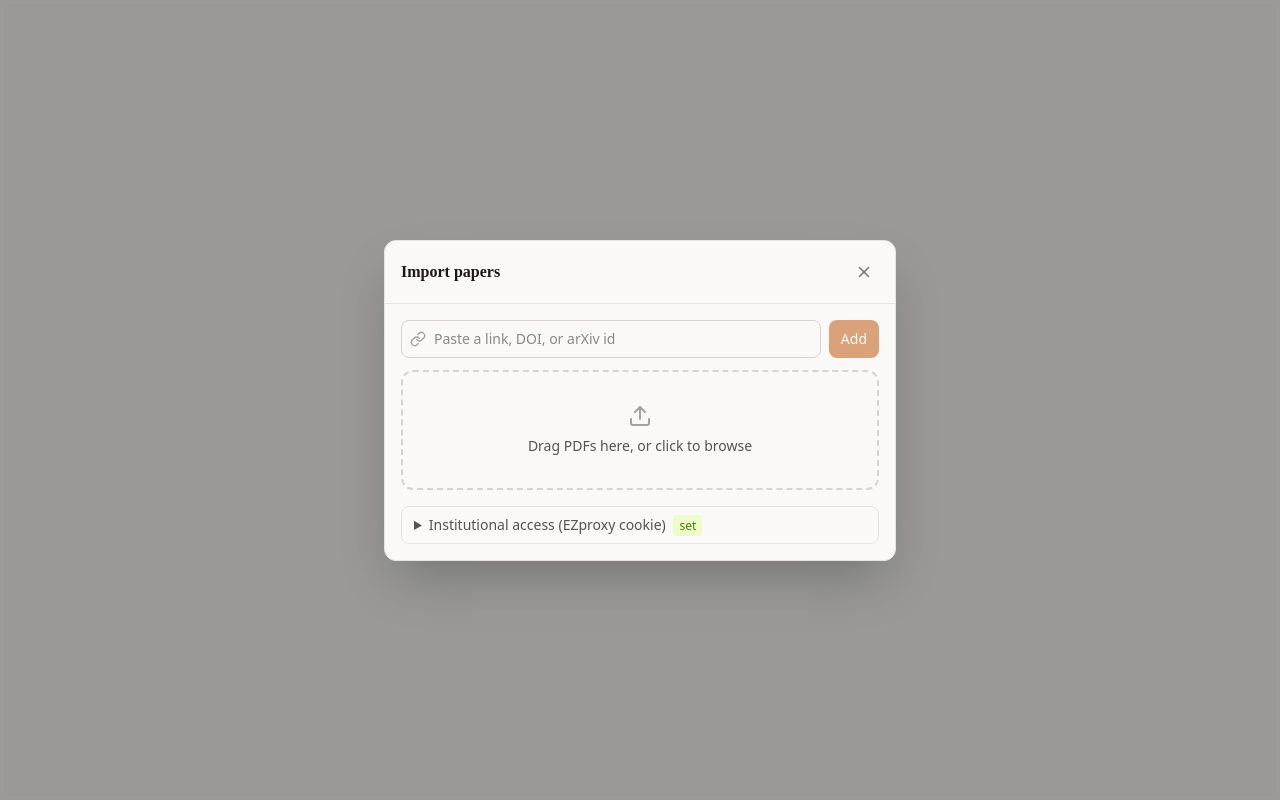
proxy cookie section › Clear removes the cookie and surfaces the refreshed state
Click the heading "Institutional access (EZproxy cookie) set". click: (566, 525)
box: [429,514,702,536]
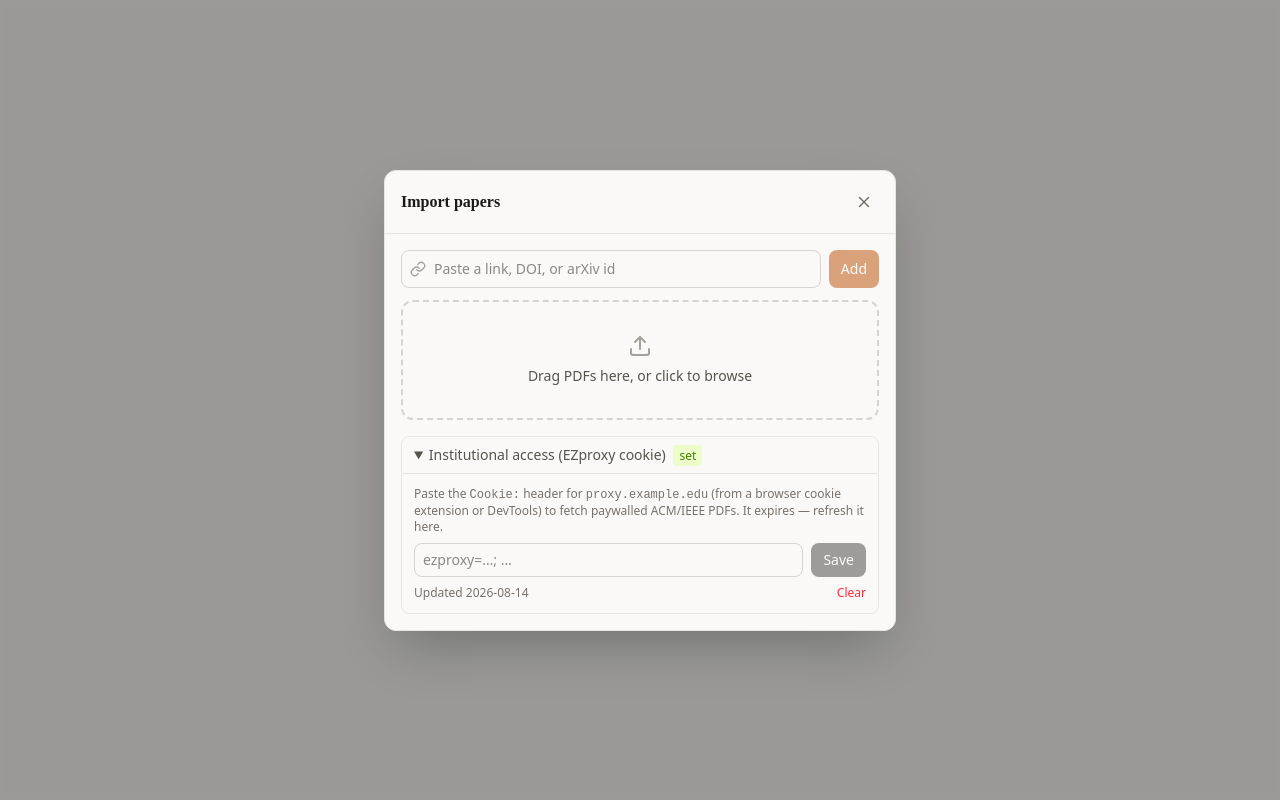
Click the button "Clear". click: (851, 592)
box: [837,584,866,600]
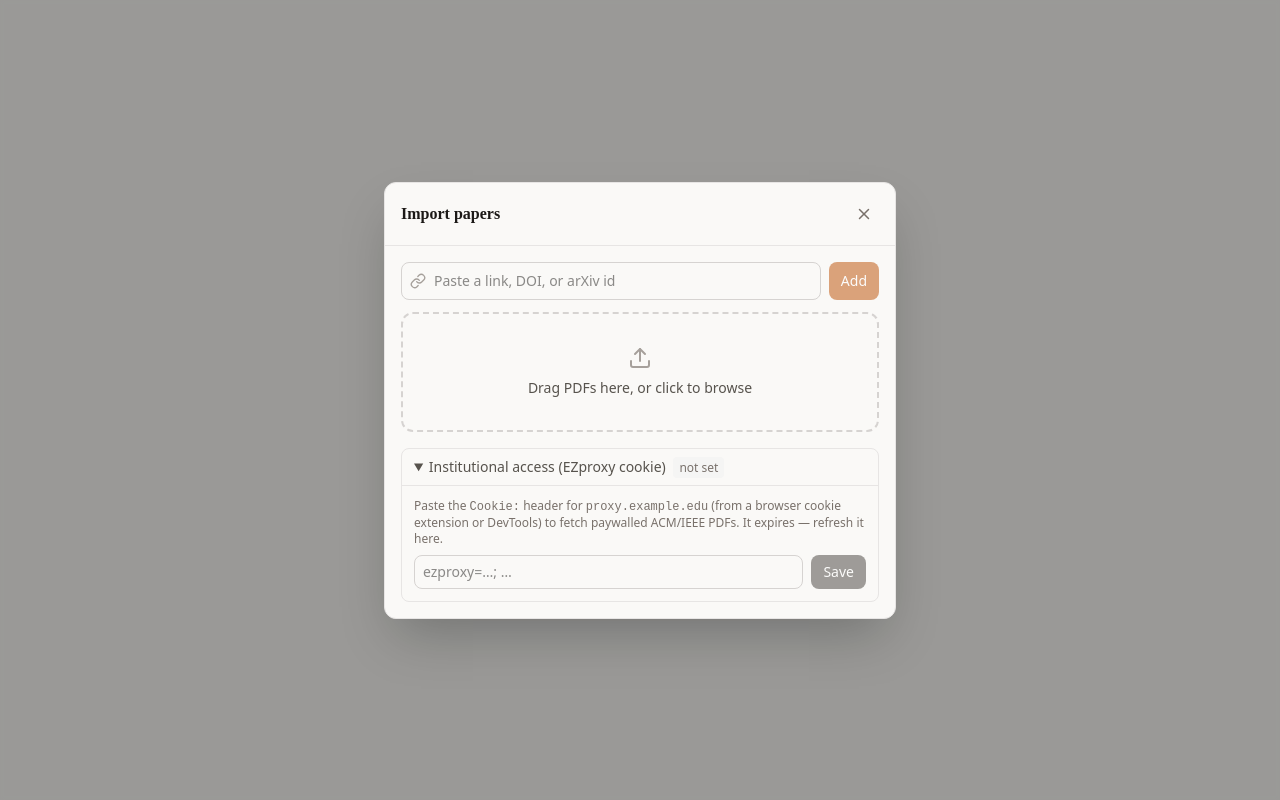
Expected: the text "not set" is shown, [673,456,724,478]
